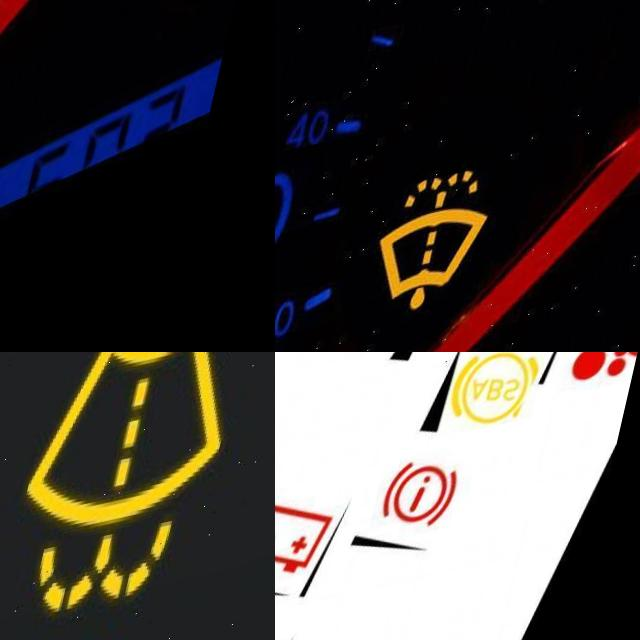Washer Fluid: (382, 178, 512, 333)
